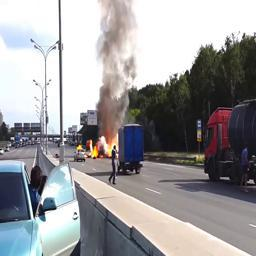fire: (88, 134, 119, 158)
